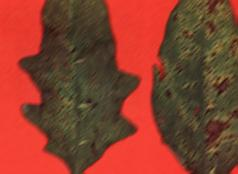Tomato Septoria leaf spot: (18, 0, 142, 174), (151, 0, 238, 174)
